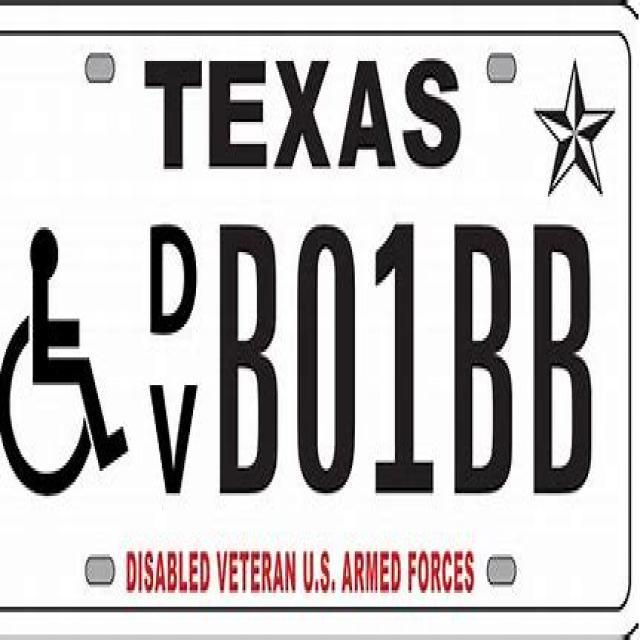symbol_of_access: (0, 221, 132, 504)
